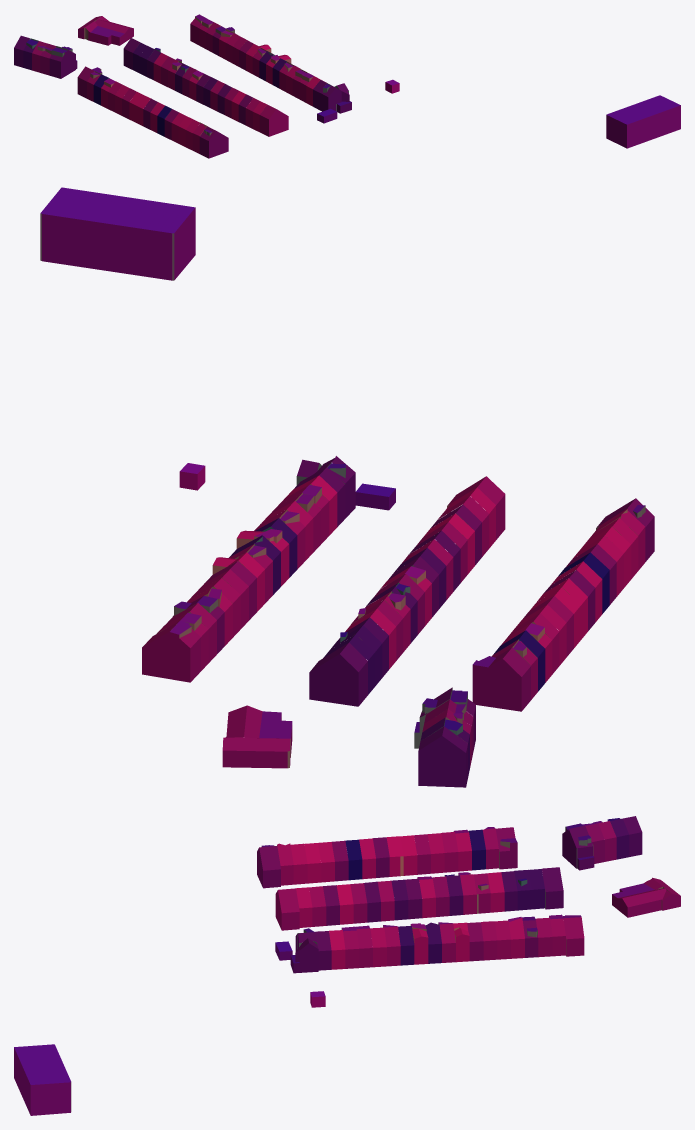
Rendered from buildings_7_5.glb.
3 views of the same model, one above another, from view 1: azimuth 30°, elevation 25°; view 2: azimuth 150°, elevation 25°; view 3: azimuth 270°, elevation 25° (orthographic). The views are drawn at different scales.
Visible parts, largest first — view 1: buildings_7_5; view 2: buildings_7_5; view 3: buildings_7_5.
Part boxes in pixels (left/top/right/bottom): buildings_7_5: left=14, top=14, right=680, bottom=158; buildings_7_5: left=40, top=187, right=654, bottom=787; buildings_7_5: left=14, top=816, right=680, bottom=1115.
Size of the model in its own units: 176 by 10.2 by 182.
